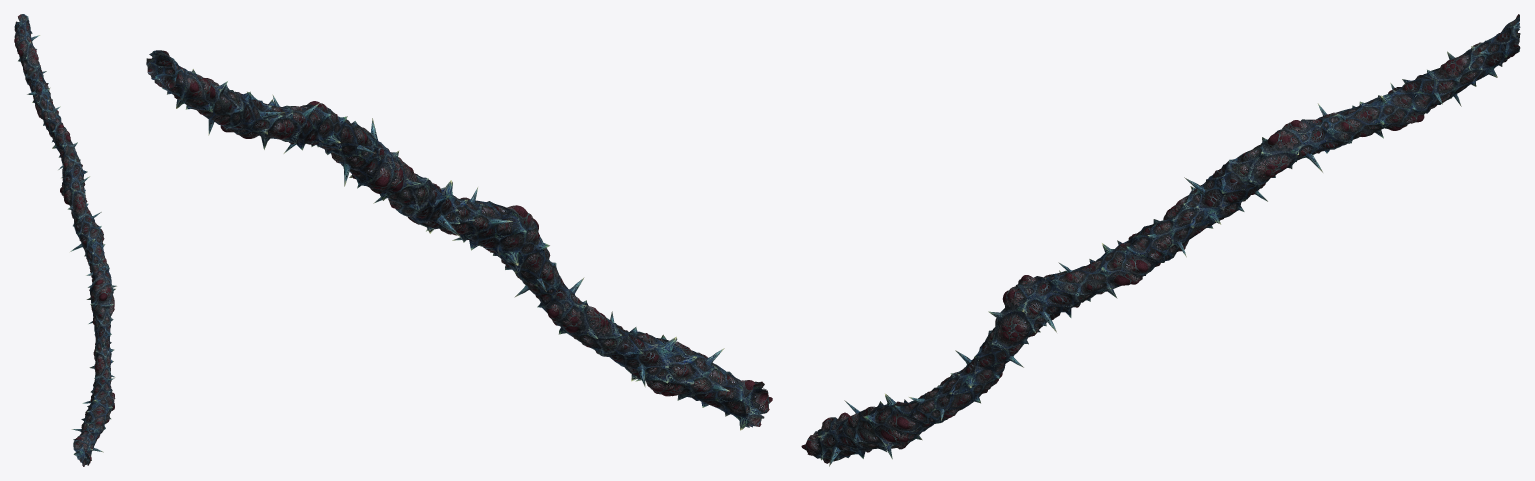
File: backup.fbx
3 views of the same model, side by side, from view 1: azimuth 30°, elevation 25°; view 2: azimuth 150°, elevation 25°; view 3: azimuth 270°, elevation 25° (orthographic). The views are drawn at different scales.
Parts seen in each view (by area): view 1: LODGroup_1_MainMesh_1_SubMesh_1; view 2: LODGroup_1_MainMesh_1_SubMesh_1; view 3: LODGroup_1_MainMesh_1_SubMesh_1.
Part boxes in pixels (bbox=[...]): LODGroup_1_MainMesh_1_SubMesh_1: bbox=[14, 14, 116, 466]; LODGroup_1_MainMesh_1_SubMesh_1: bbox=[146, 50, 772, 430]; LODGroup_1_MainMesh_1_SubMesh_1: bbox=[801, 14, 1520, 466].
Bounding box in the file's own units: 475 × 1019 × 1187.
